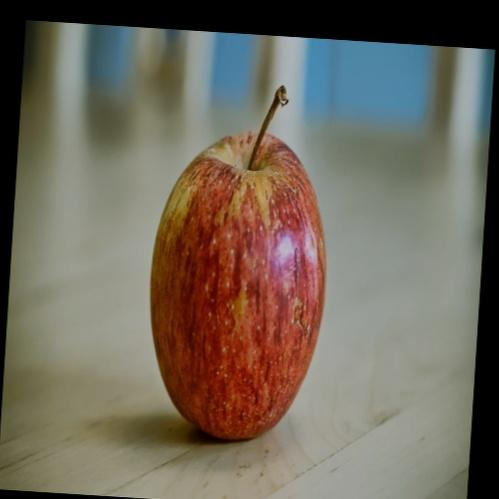red apple: (151, 126, 328, 440)
